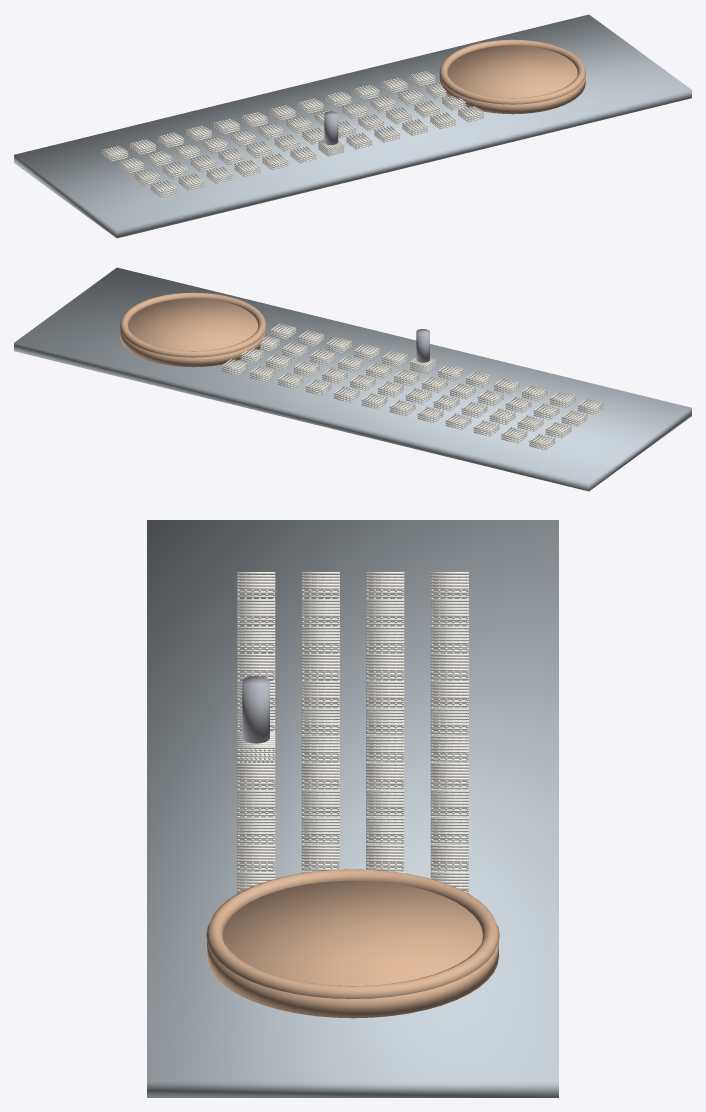
File: PCL_Scaffold_Printing.glb
The picture shows the model from 3 angles, top to bottom: view 1: azimuth 30°, elevation 25°; view 2: azimuth 150°, elevation 25°; view 3: azimuth 270°, elevation 25°; orthographic projection. The views are drawn at different scales.
Parts seen in each view (by area): view 1: Build_Plate, Coin_Penny_19mm, Nozzle; view 2: Build_Plate, Coin_Penny_19mm, Nozzle; view 3: Build_Plate, Coin_Penny_19mm, Nozzle, Scaf_2_0, Scaf_2_1, Scaf_2_2, Scaf_2_3, Scaf_3_1, Scaf_3_2, Scaf_3_3, Scaf_5_1, Scaf_5_2 (+32 smaller).
Boxes of the visible parts, box(x1,y1,x2,y2) form: Build_Plate: box(14, 14, 691, 238); Coin_Penny_19mm: box(439, 39, 585, 114); Nozzle: box(324, 111, 338, 144); Build_Plate: box(14, 267, 691, 491); Coin_Penny_19mm: box(120, 292, 266, 367); Nozzle: box(416, 329, 429, 362); Build_Plate: box(147, 520, 558, 1097); Coin_Penny_19mm: box(206, 869, 499, 1018); Nozzle: box(242, 676, 269, 743); Scaf_2_0: box(237, 626, 275, 653); Scaf_2_1: box(301, 626, 339, 653); Scaf_2_2: box(366, 626, 404, 653); Scaf_2_3: box(430, 626, 468, 653); Scaf_3_1: box(301, 653, 339, 680); Scaf_3_2: box(366, 653, 404, 680); Scaf_3_3: box(430, 653, 468, 680); Scaf_5_1: box(301, 708, 339, 735); Scaf_5_2: box(366, 708, 404, 735).
Size of the model in its own units: 0.0864 by 0.0065 by 0.0268.
